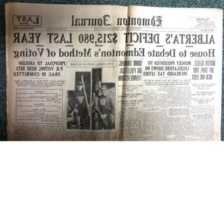news_paper: (4, 2, 223, 141)
